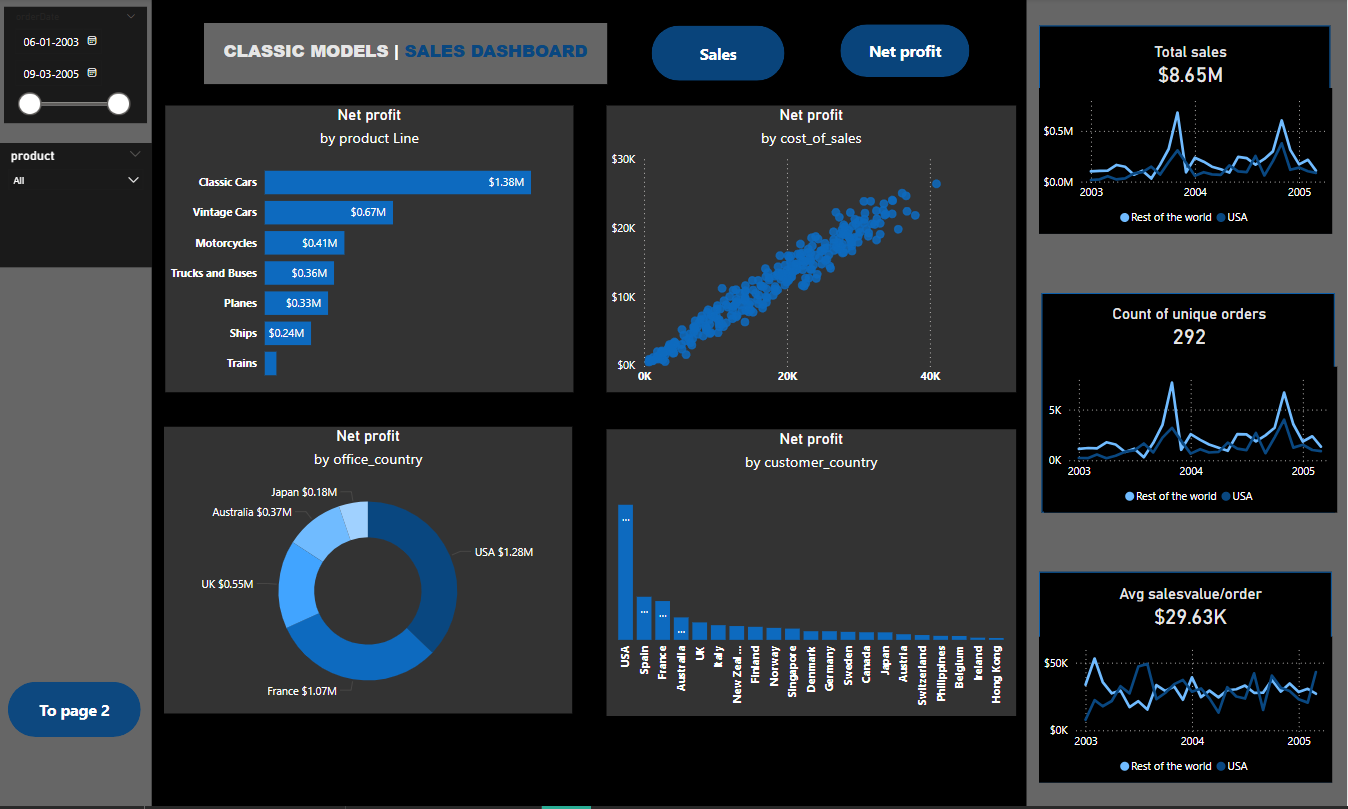

This screenshot's page, from the dashboard's own definition file:
{"tool":"powerbi","page":{"name":"Sales Overview Page 1","canvas":[1500,900],"ordinal":0},"visuals":[{"type":"shape","box":[0,0,170,900.5],"z":0},{"type":"shape","box":[1143.3,0,357,900.5],"z":1000},{"type":"shape","box":[1157.8,30.6,324.8,231.6],"z":2000},{"type":"shape","box":[1161,328,326.4,244.4],"z":3000},{"type":"shape","box":[1157.8,638.4,326.4,234.8],"z":4000},{"type":"card","title":"Total sales","fields":{"Values":["Sum(classicmodels sales_data_for_power_bi.sales_value)"]},"box":[1210.9,49.9,231.6,51.5],"z":5000},{"type":"card","title":"Count of unique orders","fields":{"Values":["Count(classicmodels sales_data_for_power_bi.orderNumber)"]},"box":[1209.3,340.9,231.6,51.5],"z":6000},{"type":"card","title":"Avg salesvalue/order","fields":{"Values":["classicmodels sales_data_for_power_bi.Average sales value per Order"]},"box":[1210.9,652.9,231.6,51.5],"z":7000},{"type":"lineChart","fields":{"Y":["Sum(classicmodels sales_data_for_power_bi.sales_value)"],"Category":["classicmodels sales_data_for_power_bi.orderDate.Variation.Date Hierarchy.Year","classicmodels sales_data_for_power_bi.orderDate.Variation.Date Hierarchy.Quarter","classicmodels sales_data_for_power_bi.orderDate.Variation.Date Hierarchy.Month"],"Series":["classicmodels sales_data_for_power_bi.office grouped"]},"box":[1157.8,99.7,326.4,162.4],"z":8000},{"type":"lineChart","fields":{"Category":["classicmodels sales_data_for_power_bi.orderDate.Variation.Date Hierarchy.Year","classicmodels sales_data_for_power_bi.orderDate.Variation.Date Hierarchy.Quarter","classicmodels sales_data_for_power_bi.orderDate.Variation.Date Hierarchy.Month"],"Series":["classicmodels sales_data_for_power_bi.office grouped"],"Y":["Sum(classicmodels sales_data_for_power_bi.quantityOrdered)"]},"box":[1162.6,410.1,326.4,162.4],"z":9000},{"type":"lineChart","fields":{"Category":["classicmodels sales_data_for_power_bi.orderDate.Variation.Date Hierarchy.Year","classicmodels sales_data_for_power_bi.orderDate.Variation.Date Hierarchy.Quarter","classicmodels sales_data_for_power_bi.orderDate.Variation.Date Hierarchy.Month"],"Series":["classicmodels sales_data_for_power_bi.office grouped"],"Y":["classicmodels sales_data_for_power_bi.Average sales value per Order"]},"box":[1157.8,710.8,326.4,162.4],"z":10000},{"type":"clusteredBarChart","fields":{"Y":["Table.Selected matric"],"Category":["classicmodels sales_data_for_power_bi.productLine"]},"box":[185.3,119.1,454.4,319.1],"z":11000},{"type":"actionButton","box":[726.5,30.9,148.5,61.8],"z":12000},{"type":"actionButton","box":[936.8,29.4,144.1,58.8],"z":13000},{"type":"scatterChart","fields":{"Y":["Table.Selected matric"],"X":["Sum(classicmodels sales_data_for_power_bi.cost_of_sales)"],"Category":["classicmodels sales_data_for_power_bi.orderNumber"]},"box":[676.5,119.1,455.9,319.1],"z":15000},{"type":"donutChart","fields":{"Y":["Table.Selected matric"],"Category":["classicmodels sales_data_for_power_bi.office_country"]},"box":[183.8,477.9,454.4,319.1],"z":16000},{"type":"columnChart","fields":{"Y":["Table.Selected matric"],"Category":["classicmodels sales_data_for_power_bi.customer_country"]},"box":[676.5,479.4,455.9,319.1],"z":17000},{"type":"textbox","box":[227.9,27.9,448.5,67.6],"z":18000},{"type":"actionButton","box":[10.3,761.8,148.5,61.8],"z":19000},{"type":"slicer","fields":{"Values":["classicmodels sales_data_for_power_bi.orderDate"]},"box":[5.9,10.3,158.8,129.4],"z":19001},{"type":"slicer","fields":{"Values":["classicmodels sales_data_for_power_bi.productName"]},"box":[0,161.8,170.6,138.2],"z":19003}]}

Visuals, with their boxes in screenshot pixels (x1, y1, x2, y2):
shape: 11 0 161 797
shape: 1022 0 1338 797
shape: 1035 27 1322 232
shape: 1038 290 1326 506
shape: 1035 565 1324 773
"Total sales" card: 1082 44 1287 90
"Count of unique orders" card: 1080 302 1285 347
"Avg salesvalue/order" card: 1082 578 1287 623
lineChart - Sum(classicmodels sales_data_for_power_bi.sales_value) x classicmodels sales_data_for_power_bi.orderDate.Variation.Date Hierarchy.Year: 1035 88 1324 232
lineChart - classicmodels sales_data_for_power_bi.orderDate.Variation.Date Hierarchy.Year x classicmodels sales_data_for_power_bi.orderDate.Variation.Date Hierarchy.Quarter: 1039 363 1328 506
lineChart - classicmodels sales_data_for_power_bi.orderDate.Variation.Date Hierarchy.Year x classicmodels sales_data_for_power_bi.orderDate.Variation.Date Hierarchy.Quarter: 1035 629 1324 773
clusteredBarChart - Table.Selected matric x classicmodels sales_data_for_power_bi.productLine: 174 105 576 388
actionButton: 653 27 785 82
actionButton: 839 26 967 78
scatterChart - Table.Selected matric x Sum(classicmodels sales_data_for_power_bi.cost_of_sales): 609 105 1012 388
donutChart - Table.Selected matric x classicmodels sales_data_for_power_bi.office_country: 173 423 575 705
columnChart - Table.Selected matric x classicmodels sales_data_for_power_bi.customer_country: 609 424 1012 706
textbox: 212 25 609 84
actionButton: 20 674 151 729
slicer - classicmodels sales_data_for_power_bi.orderDate: 16 9 156 124
slicer - classicmodels sales_data_for_power_bi.productName: 11 143 161 265
